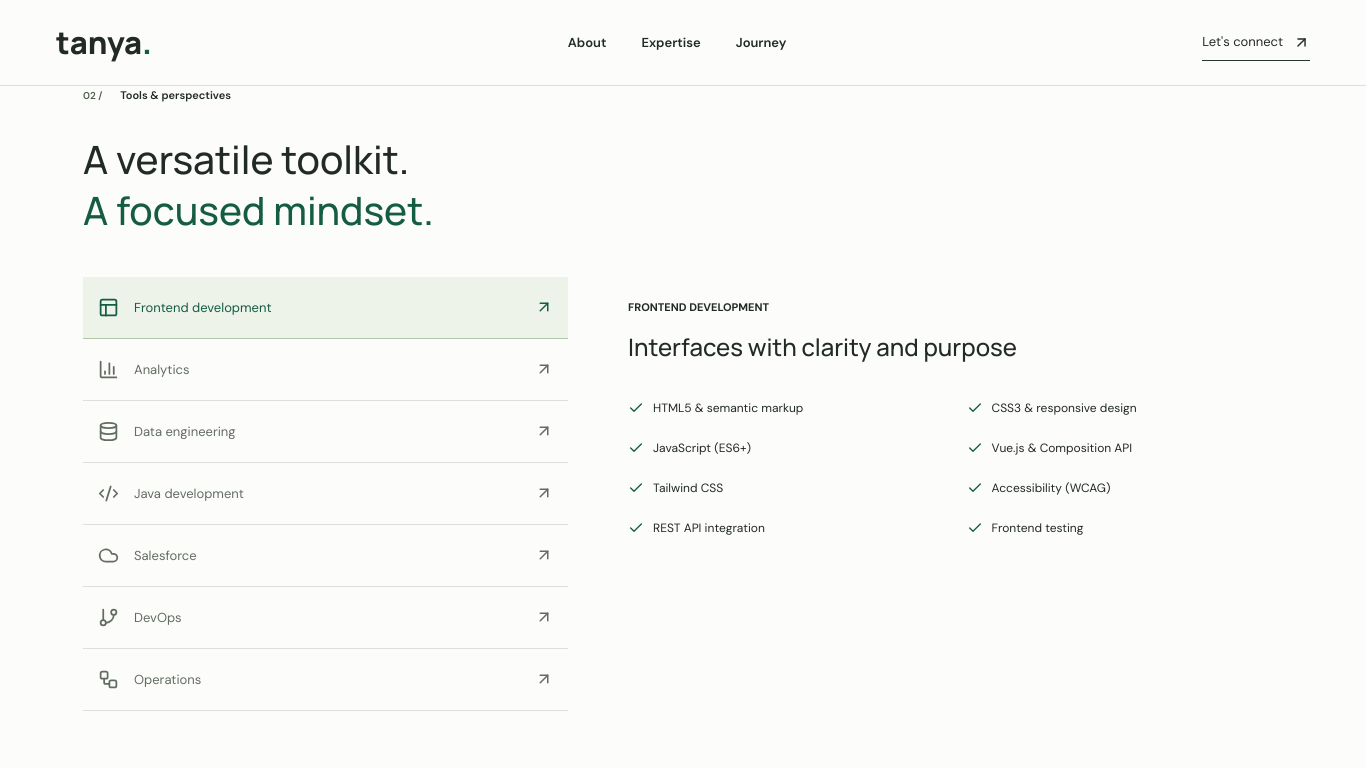
Test: shows Databricks and Azure Data Factory in Data Engineering and AWS in Java
(page scrolled)
Step 1. Click the tab with id "tab-data-engineering" → (185, 431), box [83,401,568,463]
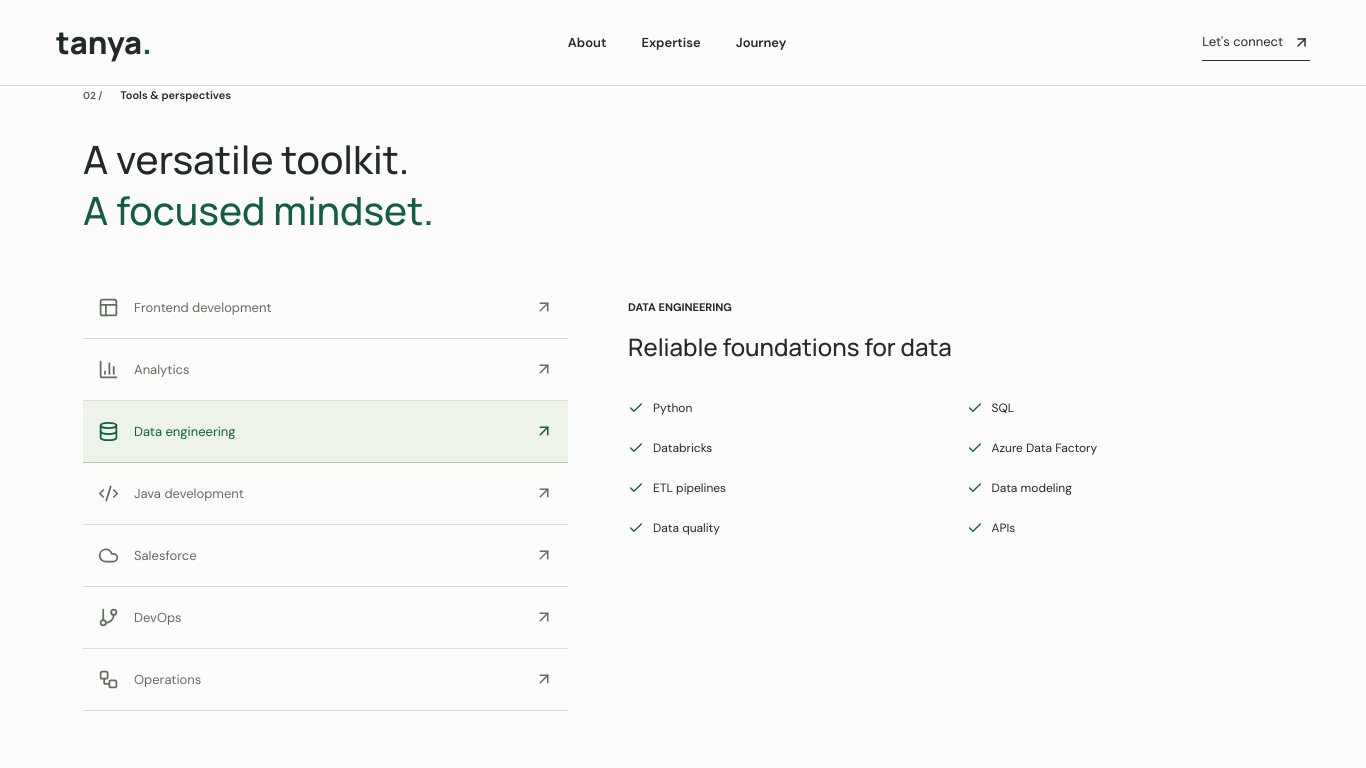
Check: the panel shows "Databricks", box [653,440,712,456]
Check: the panel shows "Azure Data Factory", box [992,440,1097,456]
Step 2. Click the tab with id "tab-java" → (189, 493), box [83,463,568,525]
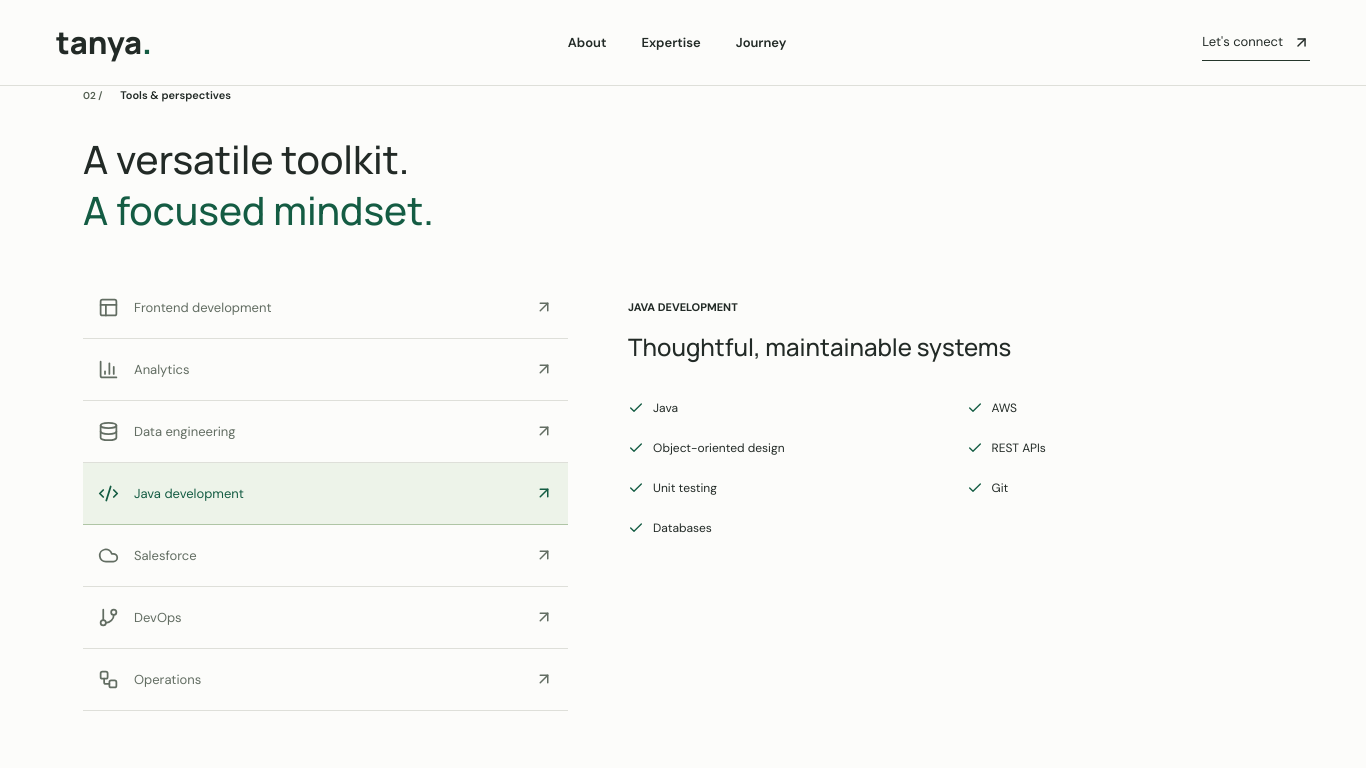
Check: the panel shows "AWS", box [992,400,1017,416]
Check: the text "Azure Data Factory" is gone
